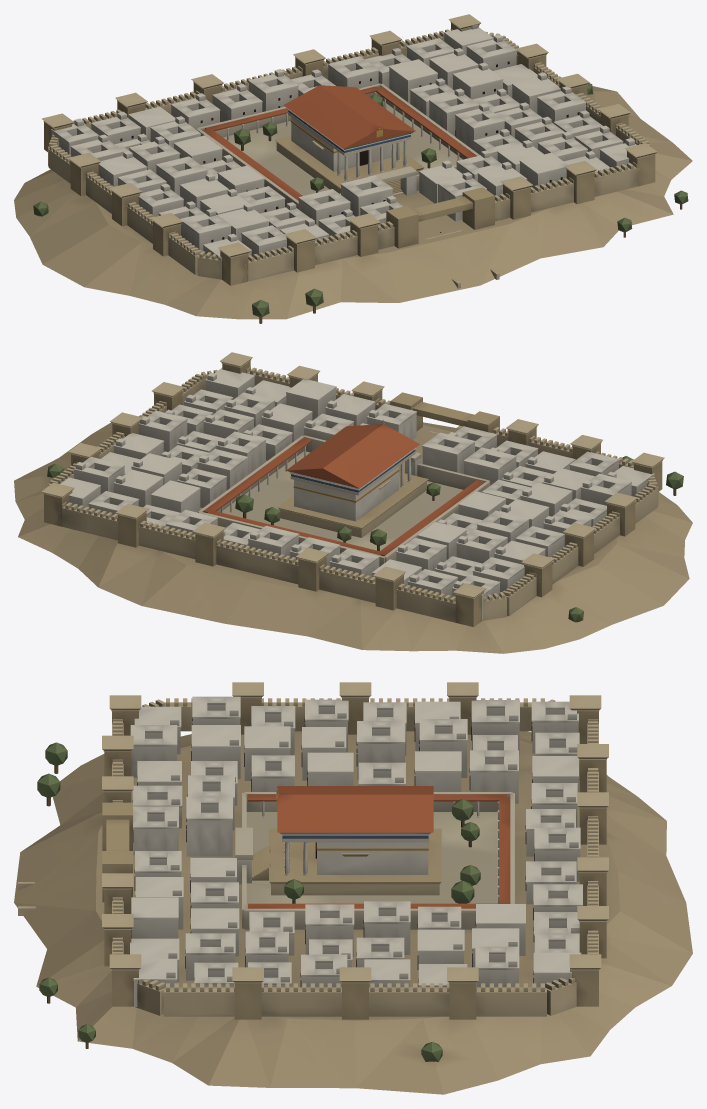
Rendered from byrsa.glb.
The picture shows the model from 3 angles, top to bottom: view 1: azimuth 30°, elevation 25°; view 2: azimuth 150°, elevation 25°; view 3: azimuth 270°, elevation 25°; orthographic projection. The views are drawn at different scales.
Visible parts, largest first — view 1: p0_hill, p2_houses, p1_temple; view 2: p0_hill, p2_houses, p1_temple; view 3: p0_hill, p2_houses, p1_temple.
Part boxes in pixels (x1,y1,x2,y2): p0_hill: (14,14,692,319); p2_houses: (33,24,688,323); p1_temple: (196,83,499,288); p0_hill: (14,352,692,653); p2_houses: (47,368,683,622); p1_temple: (198,425,490,566); p0_hill: (14,682,692,1094); p2_houses: (37,696,582,1061); p1_temple: (18,792,514,929).
Bounding box in the file's own units: 239 × 32.76 × 177.
